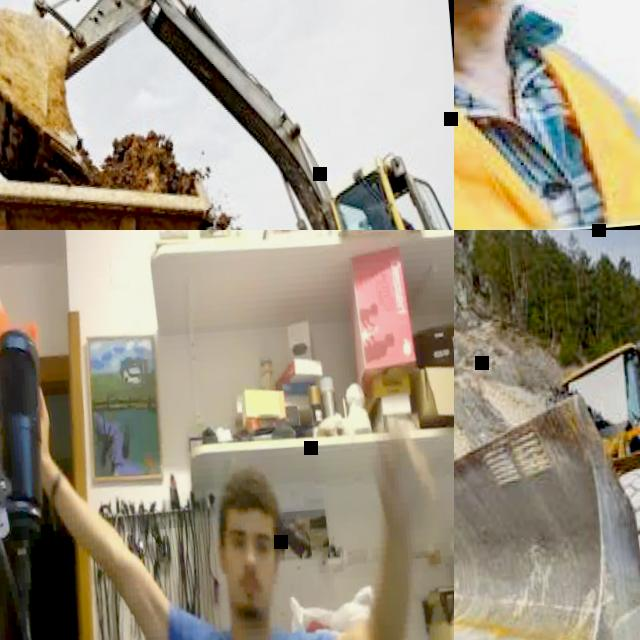NO-Hardhat: (223, 466, 281, 522)
NO-Mask: (231, 570, 273, 620)
Person: (24, 354, 454, 640), (454, 0, 640, 230)
Safety Cone: (0, 252, 47, 436)
Safety Vest: (454, 0, 640, 230)
vehicle: (0, 0, 454, 230), (454, 331, 640, 640), (0, 115, 238, 230)
